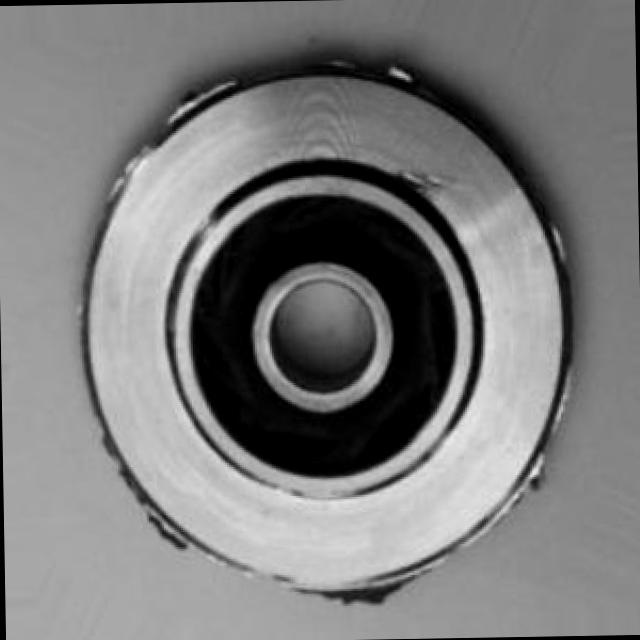Defect: (156, 76, 232, 116), (394, 156, 460, 201)
